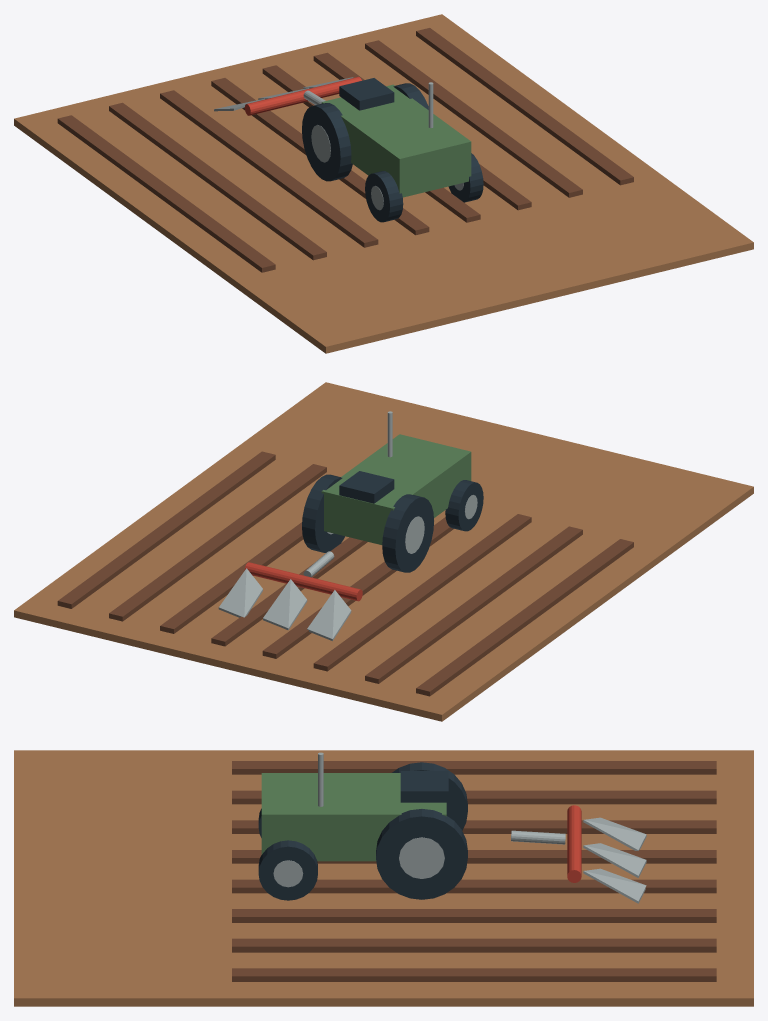
The model's file is scendance-plan-ploughing.glb.
3 renders of one model, top to bottom at view 1: azimuth 30°, elevation 25°; view 2: azimuth 150°, elevation 25°; view 3: azimuth 270°, elevation 25°, orthographic. The views are drawn at different scales.
Size of the model in its own units: 6.5 by 1.72 by 8.2.
